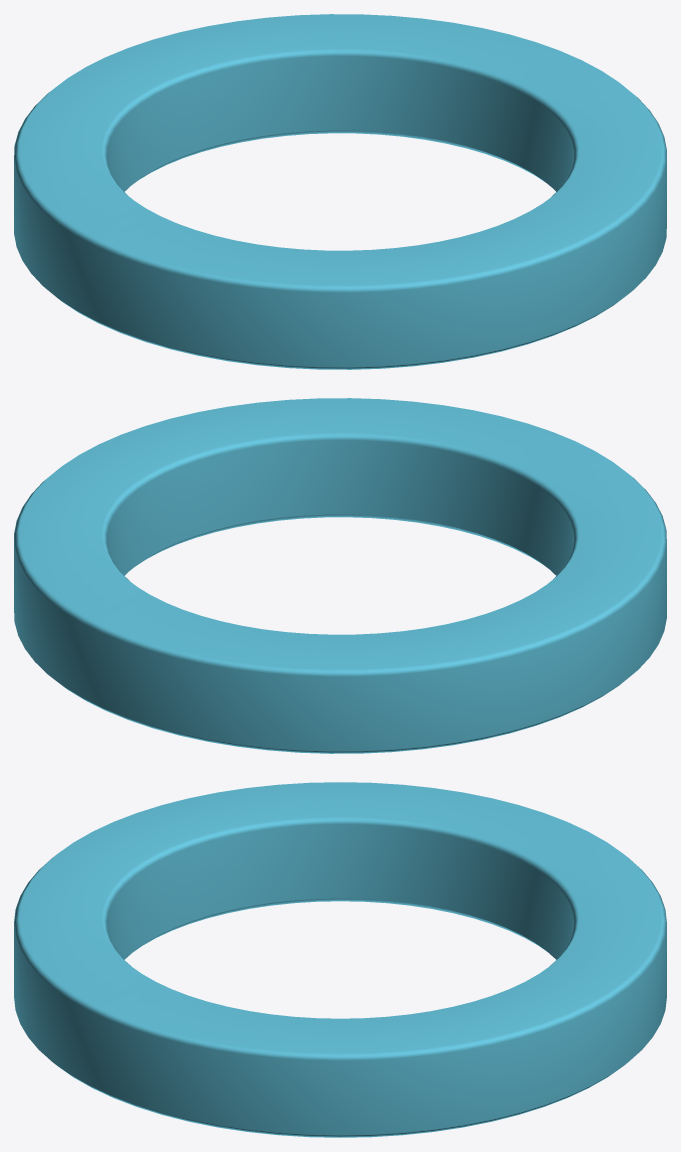
3 views of the same model, one above another, from view 1: azimuth 30°, elevation 25°; view 2: azimuth 150°, elevation 25°; view 3: azimuth 270°, elevation 25° (orthographic).
Parts seen in each view (by area): view 1: seal_body; view 2: seal_body; view 3: seal_body.
Boxes of the visible parts, box(x1,y1,x2,y2) form: seal_body: box(14, 14, 666, 369); seal_body: box(14, 398, 666, 753); seal_body: box(14, 782, 666, 1137).
Size of the model in its own units: 0.0222 by 0.00317 by 0.0222.
